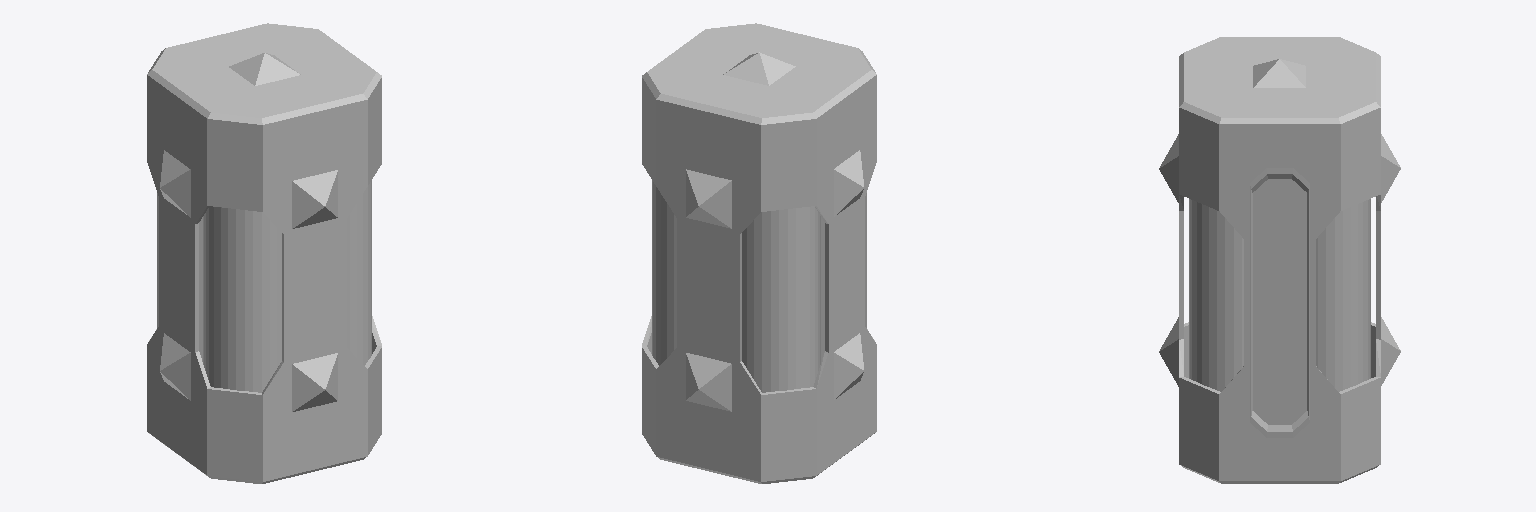
The model's file is IEC 4C Battery Base.obj.
3 renders of one model, left to right at view 1: azimuth 30°, elevation 25°; view 2: azimuth 150°, elevation 25°; view 3: azimuth 270°, elevation 25°, orthographic.
Visible parts, largest first — view 1: IEC_4C_Battery_Cube.001; view 2: IEC_4C_Battery_Cube.001; view 3: IEC_4C_Battery_Cube.001.
Boxes of the visible parts, box(x1,y1,x2,y2) form: IEC_4C_Battery_Cube.001: box(147, 23, 381, 483); IEC_4C_Battery_Cube.001: box(642, 23, 876, 483); IEC_4C_Battery_Cube.001: box(1159, 37, 1400, 483).
Bounding box in the file's own units: 1.1 × 2.2 × 1.2.